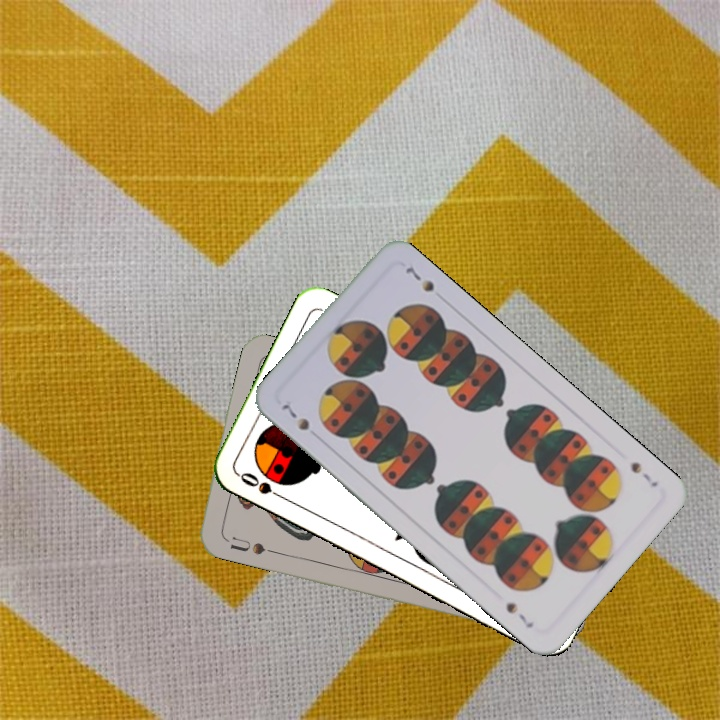S7: (278, 400, 313, 433), (626, 458, 661, 490)
SO: (234, 468, 289, 503)
SU: (219, 531, 268, 558)
